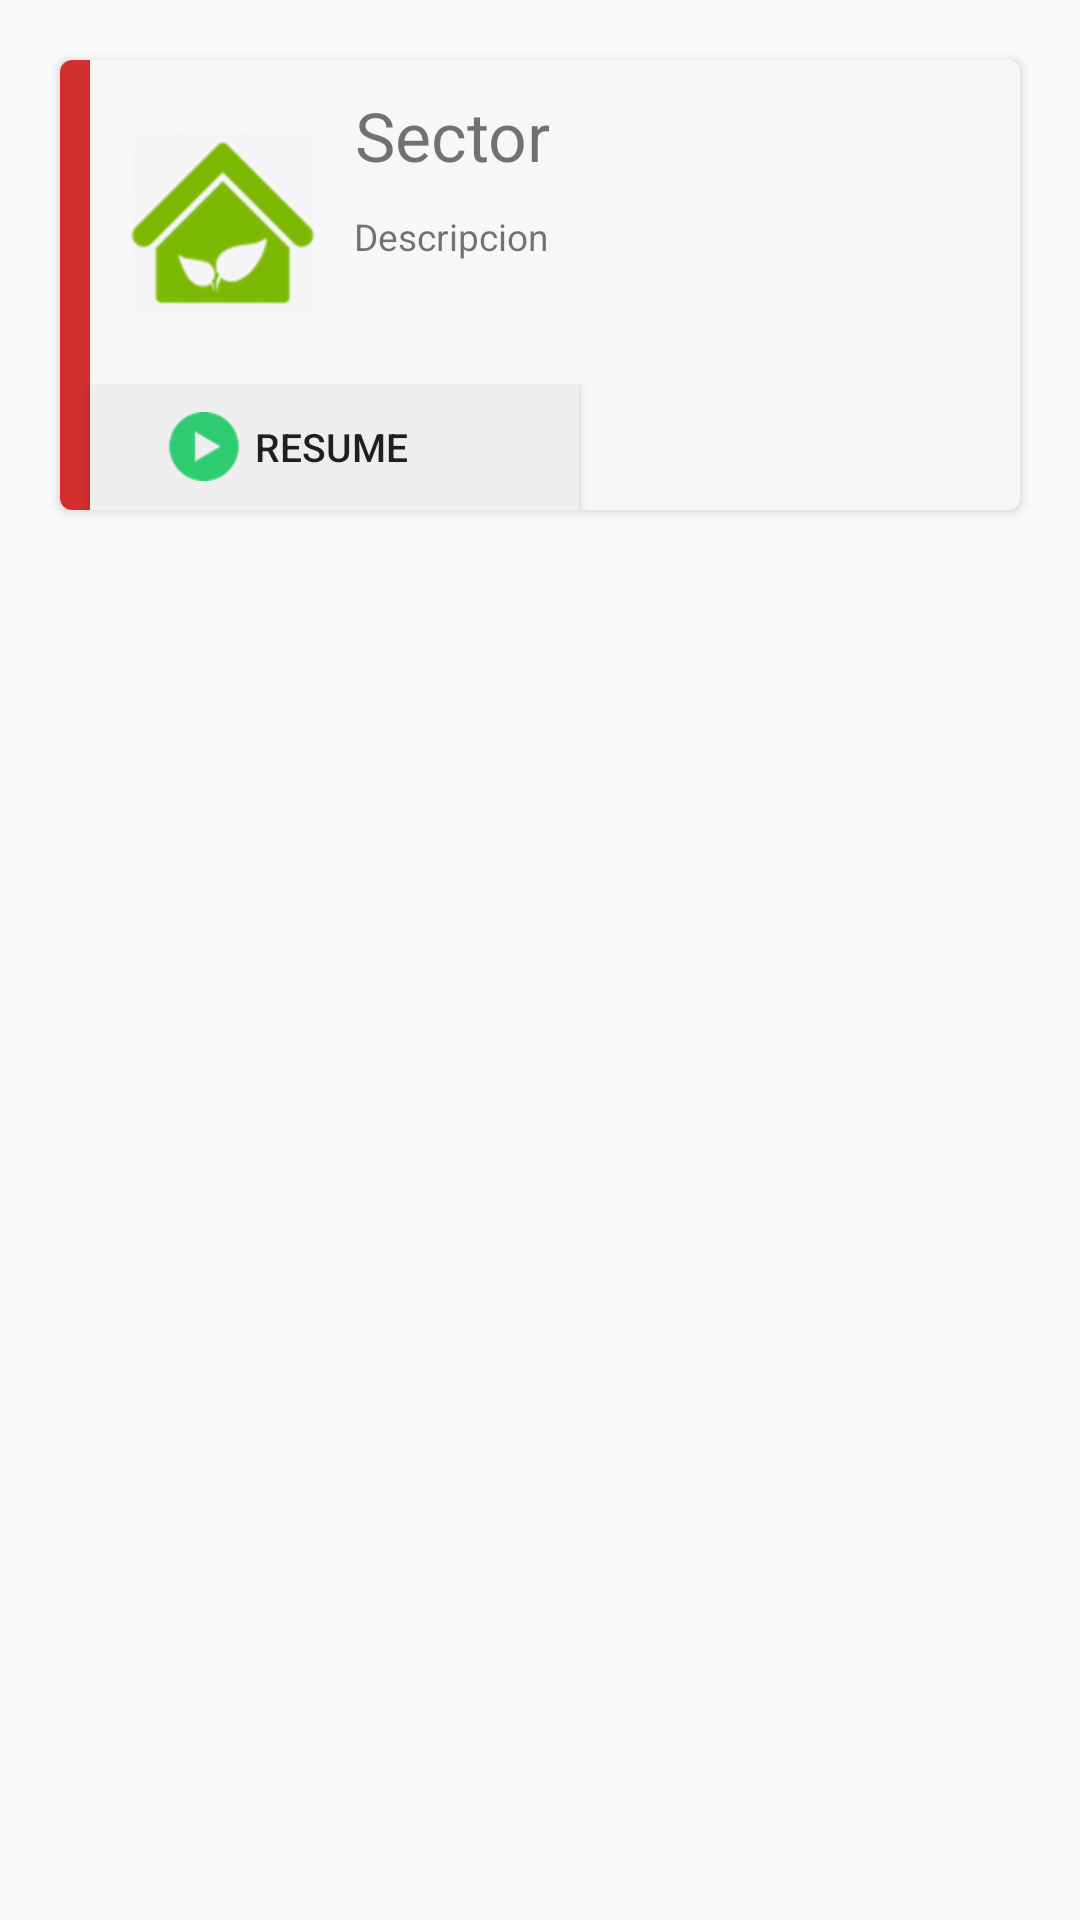

Locate icon controls on the screen. Image size 1080 × 1920, boxes as [x1=x1, y1=y1, x2=x2, y2=y2].
greenhouse: [x1=131, y1=141, x2=315, y2=304]
